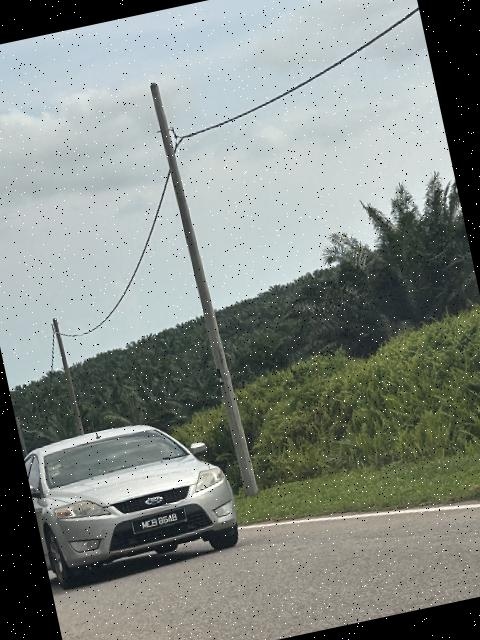License_Plate: (131, 510, 189, 535)
car: (22, 405, 254, 599)
